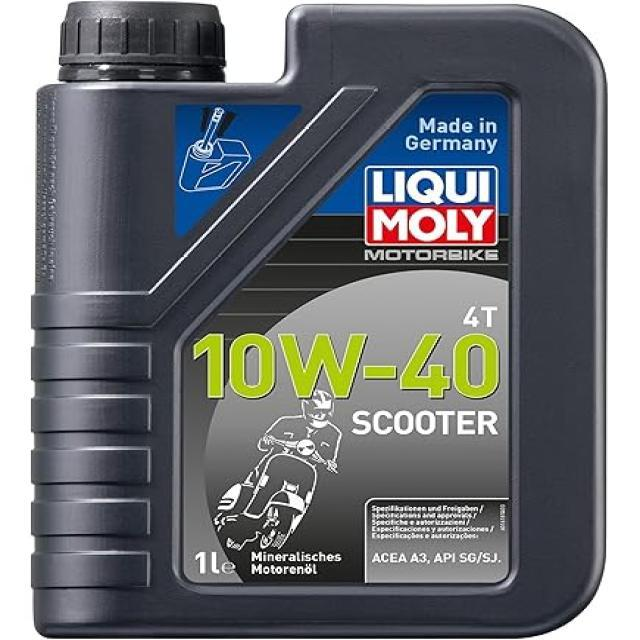motor_oil: (25, 3, 613, 636)
